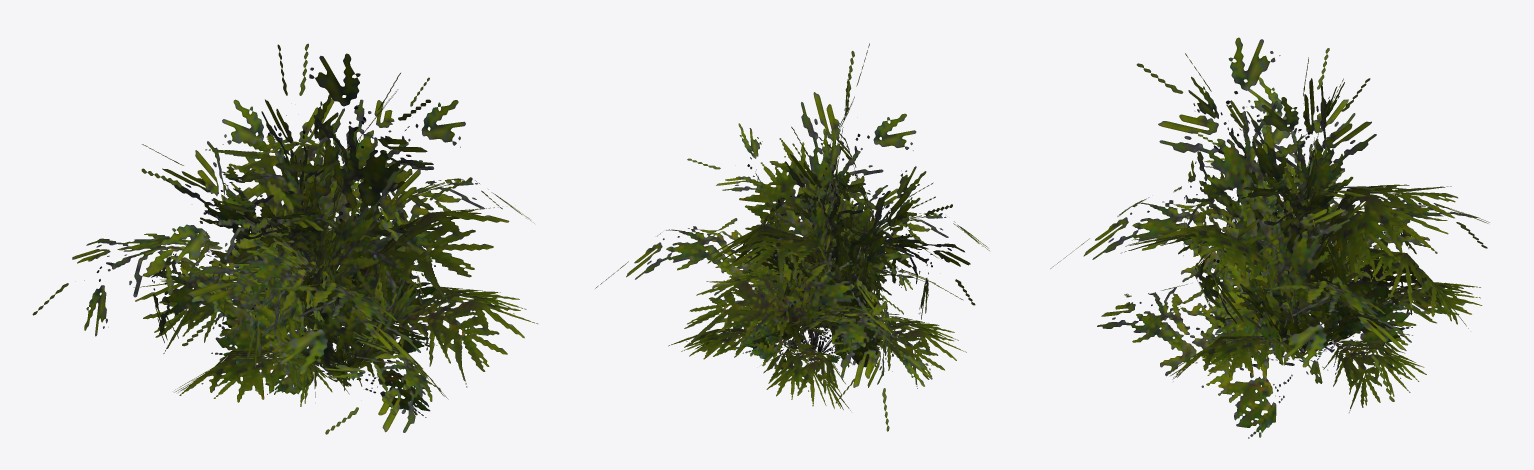
The model's file is bush10.fbx.
3 views of the same model, side by side, from view 1: azimuth 30°, elevation 25°; view 2: azimuth 150°, elevation 25°; view 3: azimuth 270°, elevation 25° (orthographic). The views are drawn at different scales.
Parts seen in each view (by area): view 1: bush_04; view 2: bush_04; view 3: bush_04.
Part boxes in pixels (x1,y1,x2,y2): bush_04: [32, 43, 537, 434]; bush_04: [595, 43, 989, 431]; bush_04: [1050, 37, 1489, 438].
Size of the model in its own units: 111 by 100 by 110.
